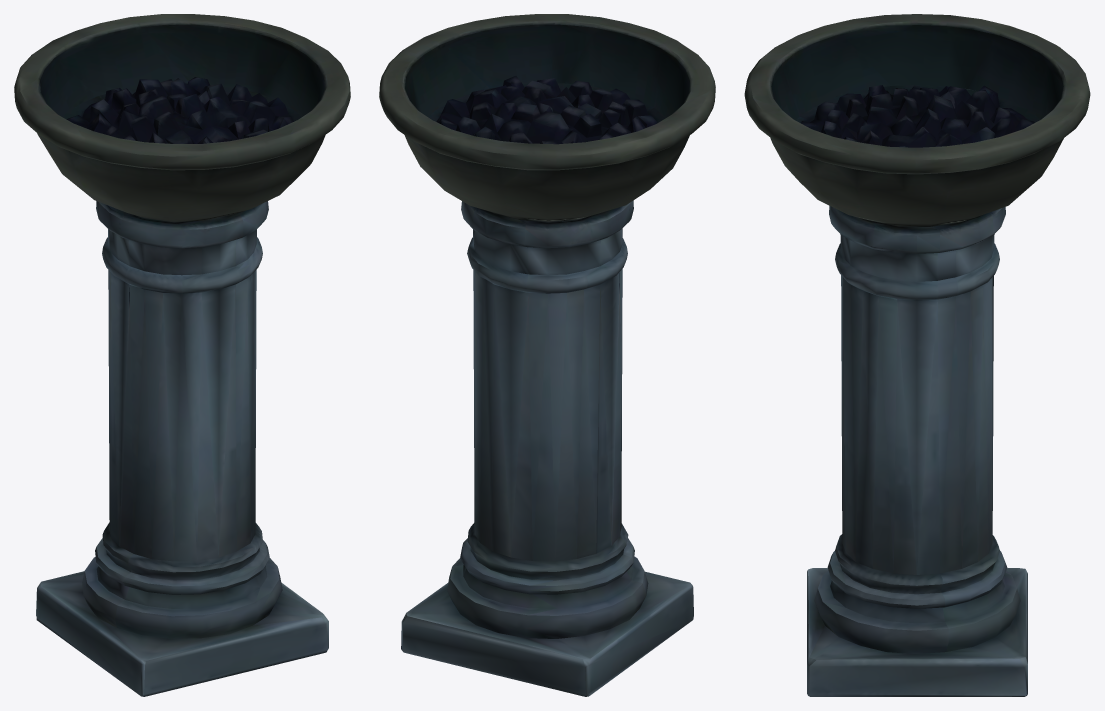
The model's file is firebowl.glb.
3 renders of one model, left to right at view 1: azimuth 30°, elevation 25°; view 2: azimuth 150°, elevation 25°; view 3: azimuth 270°, elevation 25°, orthographic. The views are drawn at different scales.
Visible parts, largest first — view 1: model; view 2: model; view 3: model.
Part boxes in pixels (bbox=[...]): model: bbox=[14, 14, 350, 696]; model: bbox=[379, 14, 715, 696]; model: bbox=[744, 14, 1090, 696].
Size of the model in its own units: 0.5538 by 1 by 0.5538.
Materials: 1 (1 with a texture image).
